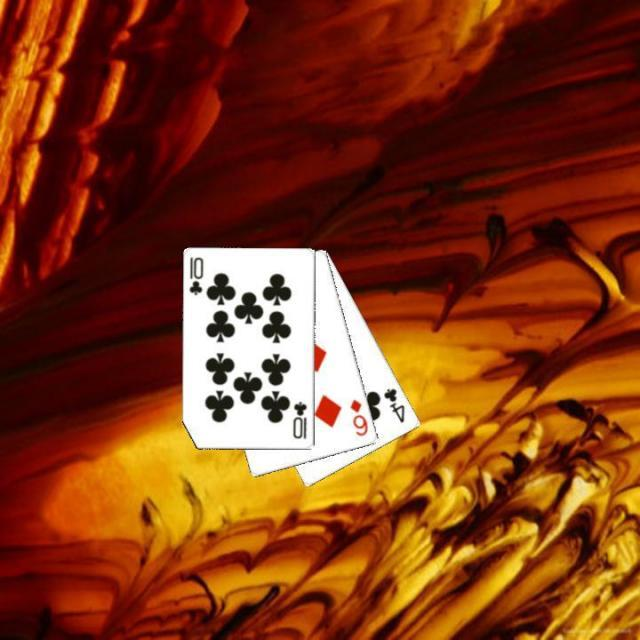10C: (186, 253, 206, 297), (290, 398, 310, 441)
4C: (380, 384, 408, 425)
6D: (346, 396, 369, 438)
